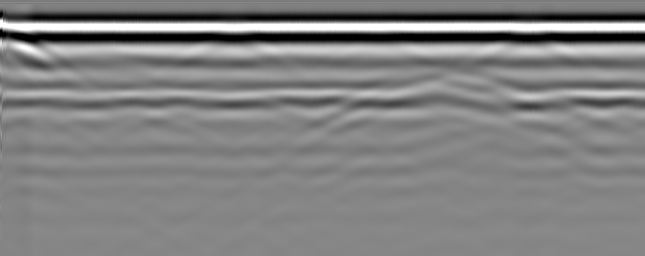pipe: (1, 26, 44, 48)
